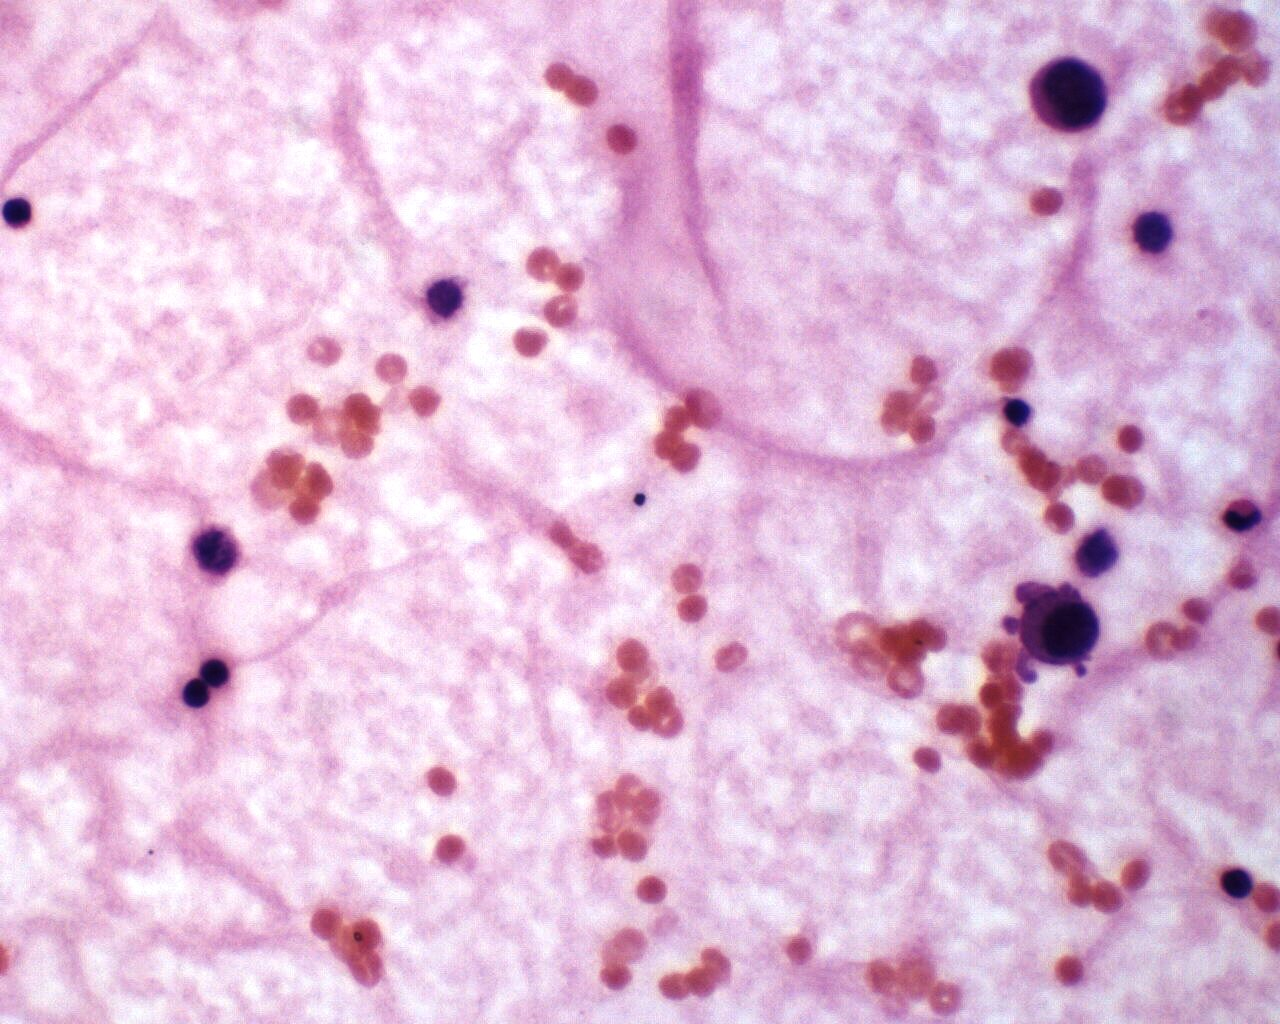ab: (1010, 579, 1107, 673), (1021, 53, 1116, 139)
lymph: (1209, 860, 1257, 912), (1, 190, 41, 238), (171, 677, 215, 715)
neutro: (1216, 493, 1269, 540)
